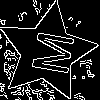M: (22, 27, 75, 77)
